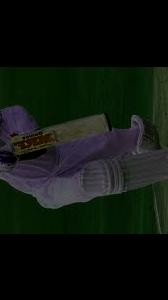batsman: (0, 77, 168, 216)
